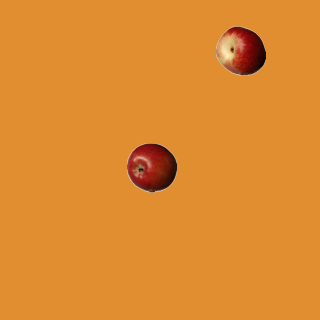Apple Braeburn: (126, 142, 176, 192)
Nectarine: (215, 25, 265, 75)
